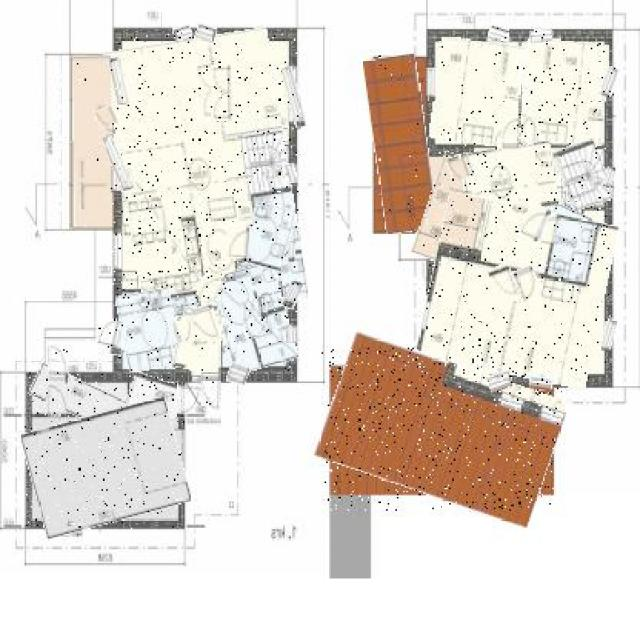window: (283, 66, 303, 128), (108, 134, 129, 192), (211, 65, 232, 120), (491, 264, 518, 304), (194, 304, 221, 344), (96, 318, 124, 356), (242, 297, 269, 335), (522, 204, 548, 242), (198, 268, 224, 302), (49, 342, 69, 384), (177, 384, 201, 418), (516, 266, 538, 302), (518, 114, 542, 144), (228, 226, 249, 259), (48, 384, 66, 422), (110, 57, 124, 105), (448, 154, 472, 180), (200, 376, 220, 406), (502, 114, 518, 151), (175, 319, 197, 343), (95, 106, 118, 128), (601, 68, 617, 97), (602, 318, 616, 351), (228, 365, 249, 386), (488, 371, 510, 391), (285, 282, 300, 309), (488, 26, 509, 45), (197, 25, 215, 46), (531, 375, 552, 391), (172, 26, 192, 42), (530, 31, 552, 43), (283, 165, 297, 183), (603, 168, 614, 189), (428, 68, 435, 100), (286, 328, 299, 343), (288, 243, 295, 265), (66, 520, 74, 526)
zone: (112, 34, 298, 318), (322, 348, 562, 510), (423, 200, 611, 382), (26, 404, 186, 530), (463, 143, 563, 277), (370, 55, 432, 234), (432, 39, 522, 146), (522, 40, 608, 145), (215, 264, 292, 370), (74, 55, 112, 226), (420, 152, 474, 262), (29, 372, 129, 425), (118, 291, 178, 371), (535, 206, 588, 274), (557, 140, 609, 209), (246, 205, 292, 269), (176, 311, 222, 375), (128, 376, 182, 416)
